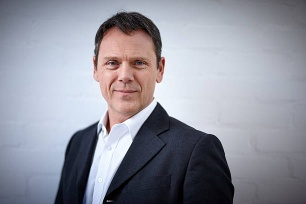male: (94, 23, 163, 116)
